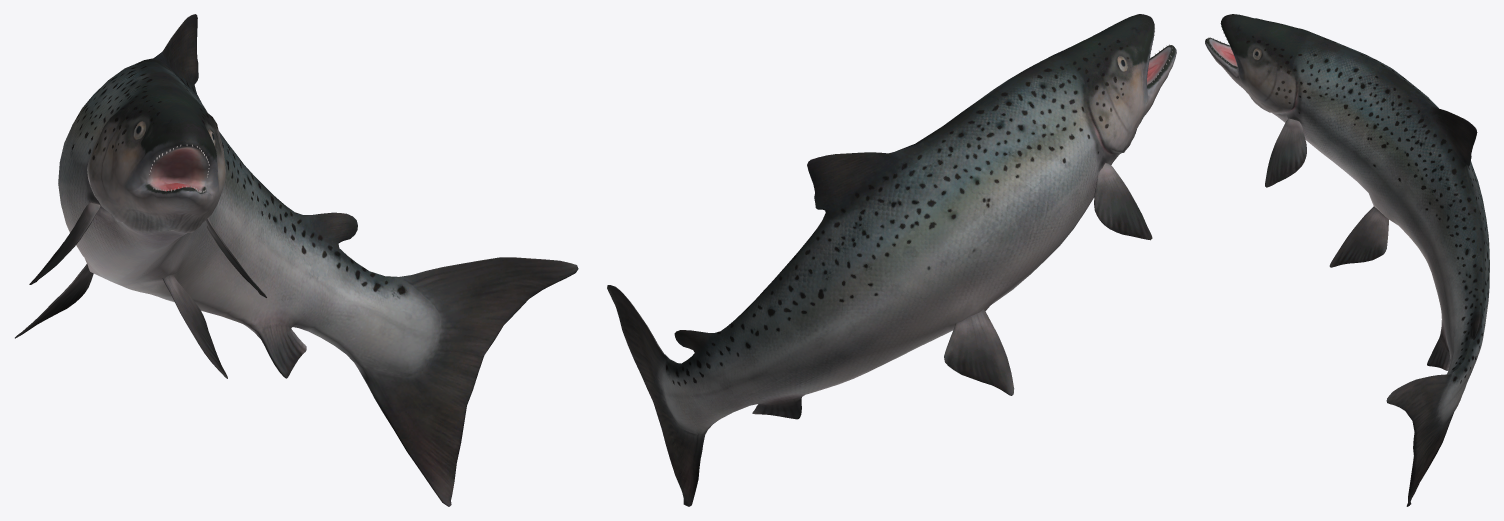
The model's file is Salmon.fbx.
The picture shows the model from 3 angles, left to right: view 1: azimuth 30°, elevation 25°; view 2: azimuth 150°, elevation 25°; view 3: azimuth 270°, elevation 25°; orthographic projection. The views are drawn at different scales.
Parts seen in each view (by area): view 1: node_id137; view 2: node_id137; view 3: node_id137.
Boxes of the visible parts, x1,y1,x2,y2 form: node_id137: (15, 14, 578, 506); node_id137: (607, 14, 1176, 506); node_id137: (1205, 14, 1489, 506).
Size of the model in its own units: 0.512 by 0.4752 by 0.3332.
Materials: 1 (1 with a texture image).
